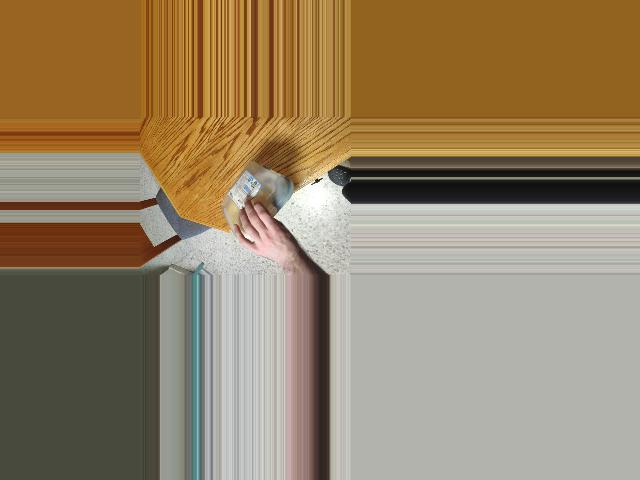cheese: (219, 158, 292, 248)
